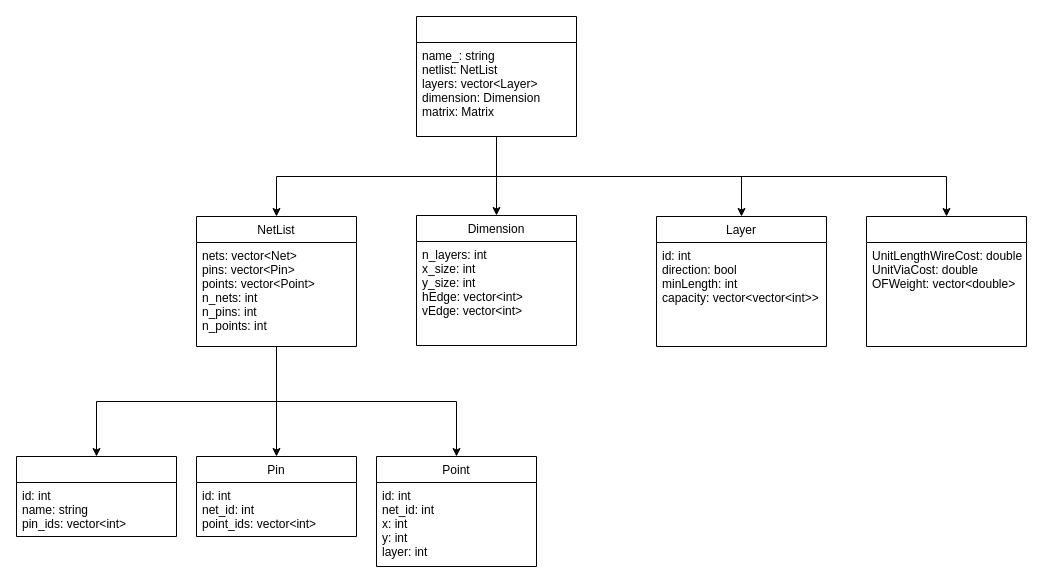
Image size: 1062x583. Some labels were removed from this diagram. The box of each missing label's shape, as (x1, y1, x2, y2) in pixels:
Design: (416, 16, 576, 136)
Metrics: (866, 216, 1026, 346)
Net: (16, 456, 176, 536)
